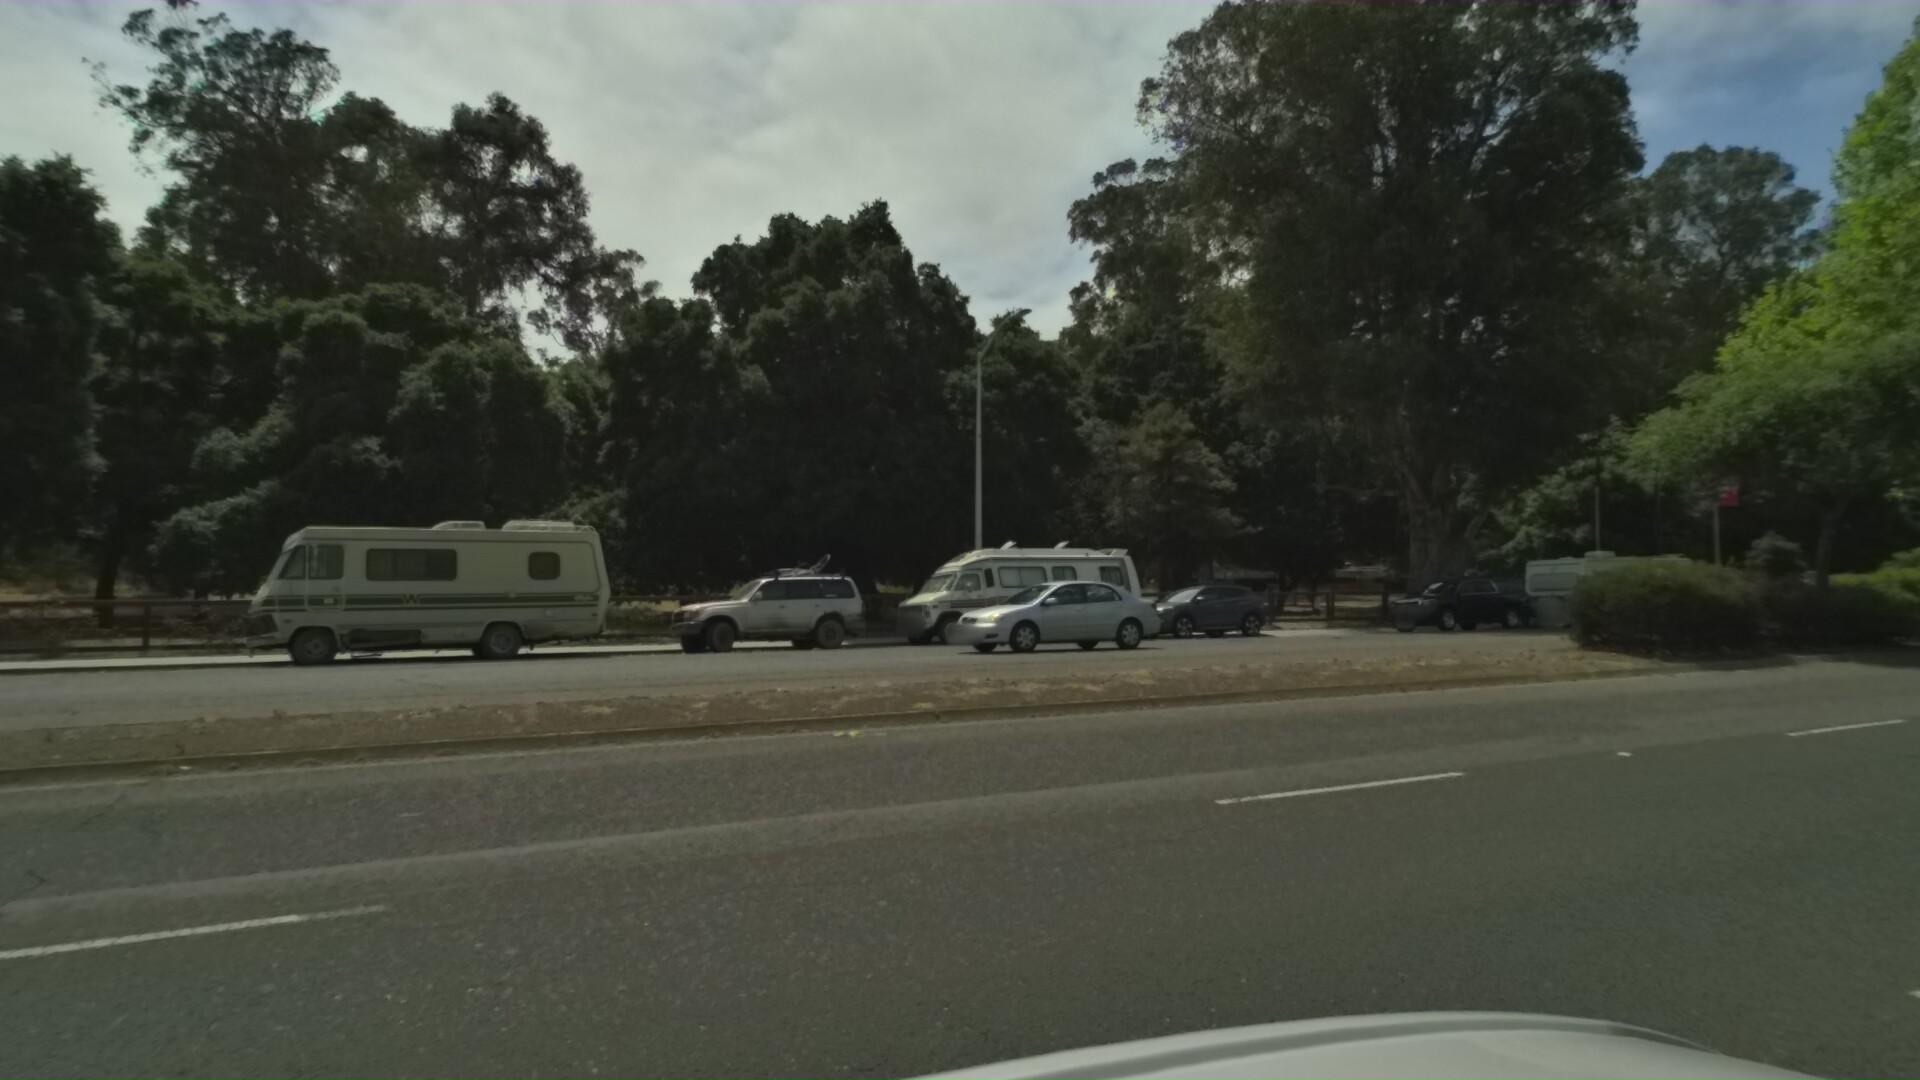car: (632, 549, 852, 659), (887, 574, 1124, 655), (1097, 576, 1265, 644), (1364, 572, 1515, 636)
other_vehicle: (198, 501, 597, 669), (860, 530, 1130, 651), (1484, 541, 1689, 632)
